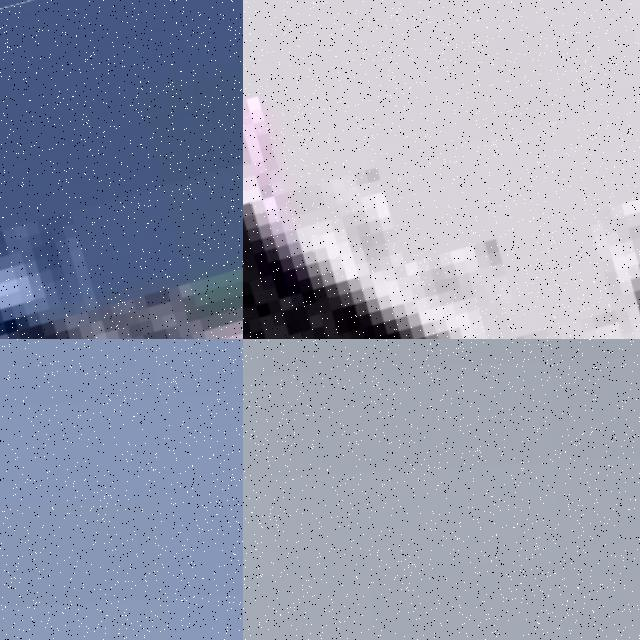drone: (243, 0, 640, 339), (0, 0, 243, 339)
